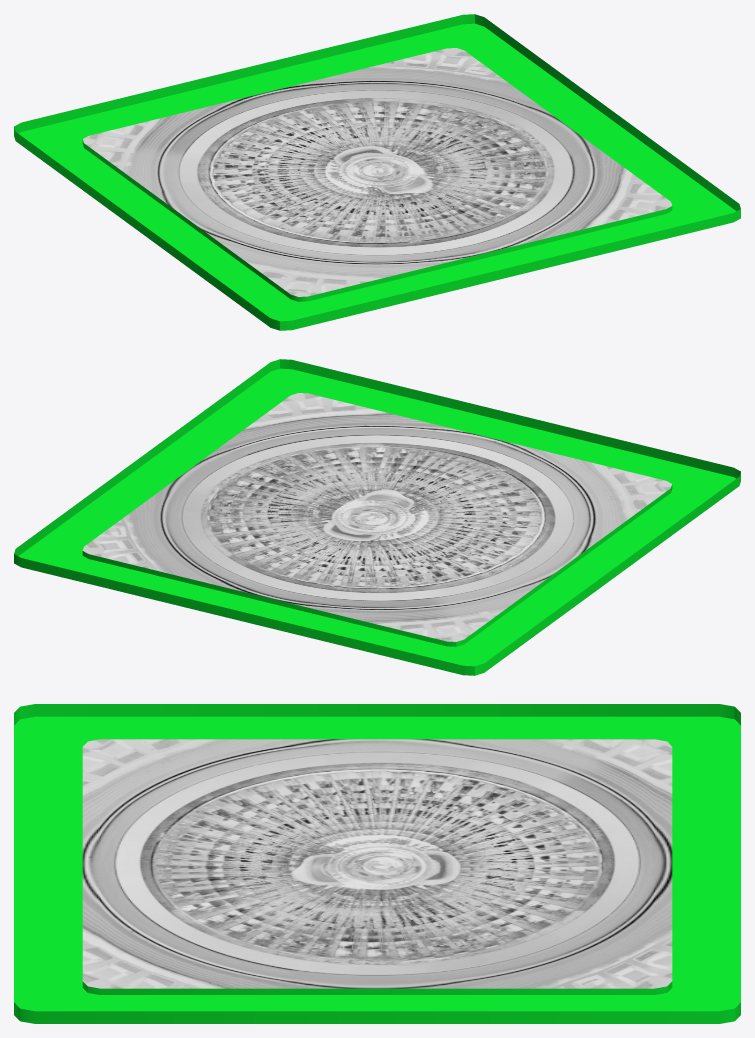
File: LightCeiling02_2.FBX
3 renders of one model, top to bottom at view 1: azimuth 30°, elevation 25°; view 2: azimuth 150°, elevation 25°; view 3: azimuth 270°, elevation 25°, orthographic. The views are drawn at different scales.
Parts seen in each view (by area): view 1: LightCeiling02_2; view 2: LightCeiling02_2; view 3: LightCeiling02_2.
Part boxes in pixels (x1,y1,x2,y2): LightCeiling02_2: [14, 14, 740, 330]; LightCeiling02_2: [14, 359, 740, 675]; LightCeiling02_2: [14, 704, 740, 1023].
Size of the model in its own units: 15.5 by 0.3026 by 15.5.
